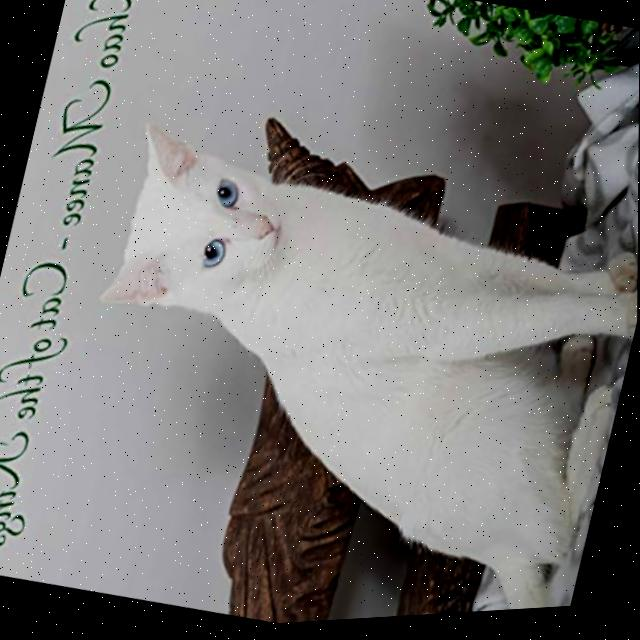Khao Manee: (26, 94, 639, 639)
